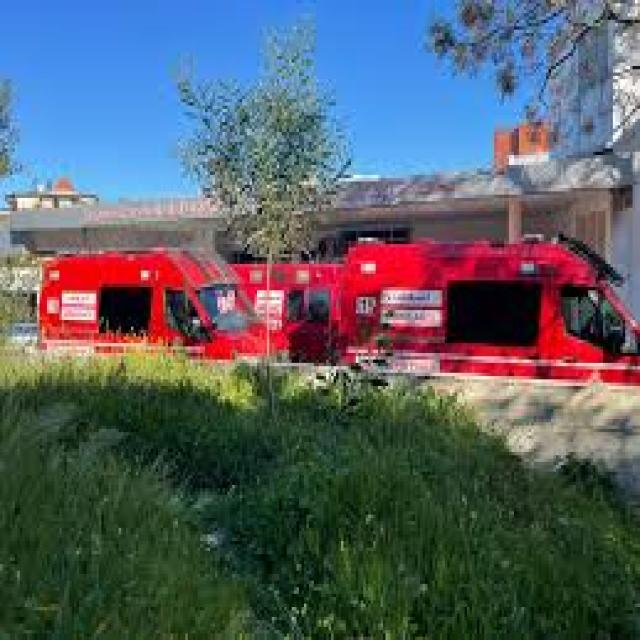ambulance: (341, 232, 640, 375), (36, 246, 289, 363)
